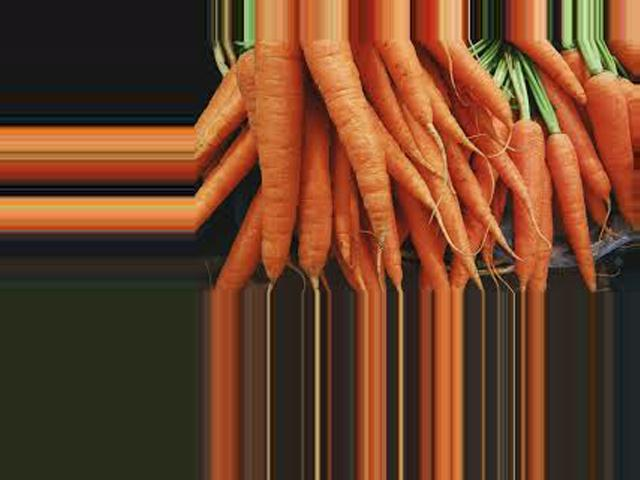carrot: (590, 65, 635, 212)
